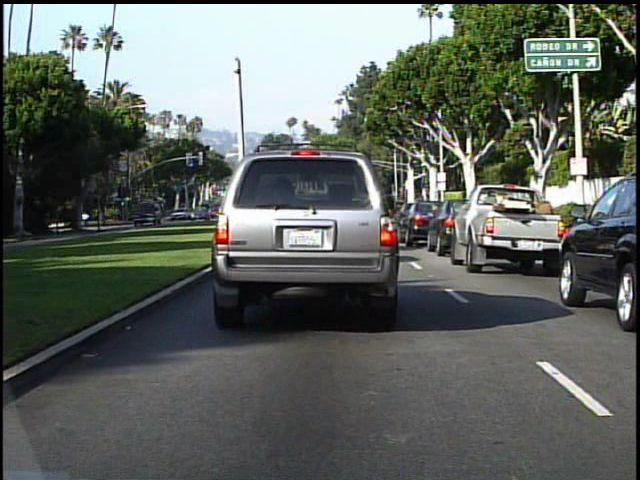person: (82, 209, 93, 229)
